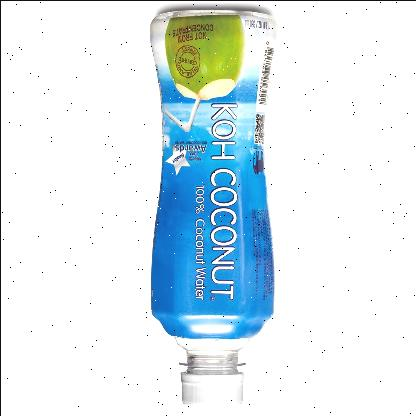Plastic Bottle: (149, 8, 277, 406)
